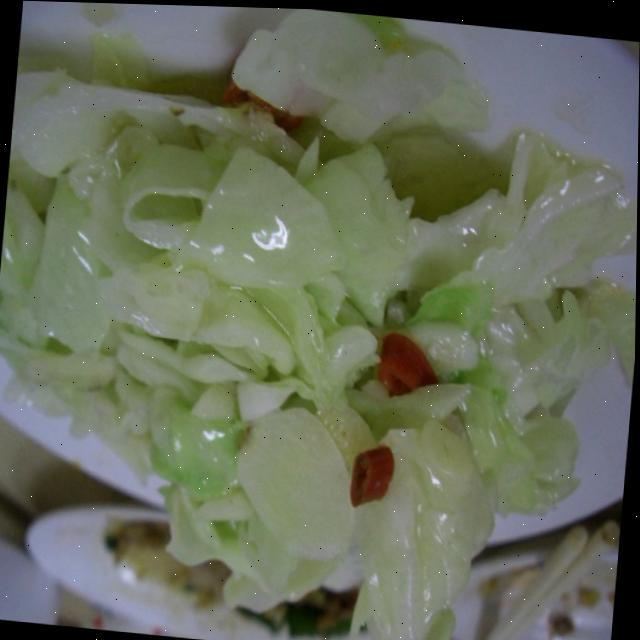蔬菜料理: (0, 30, 640, 640)
